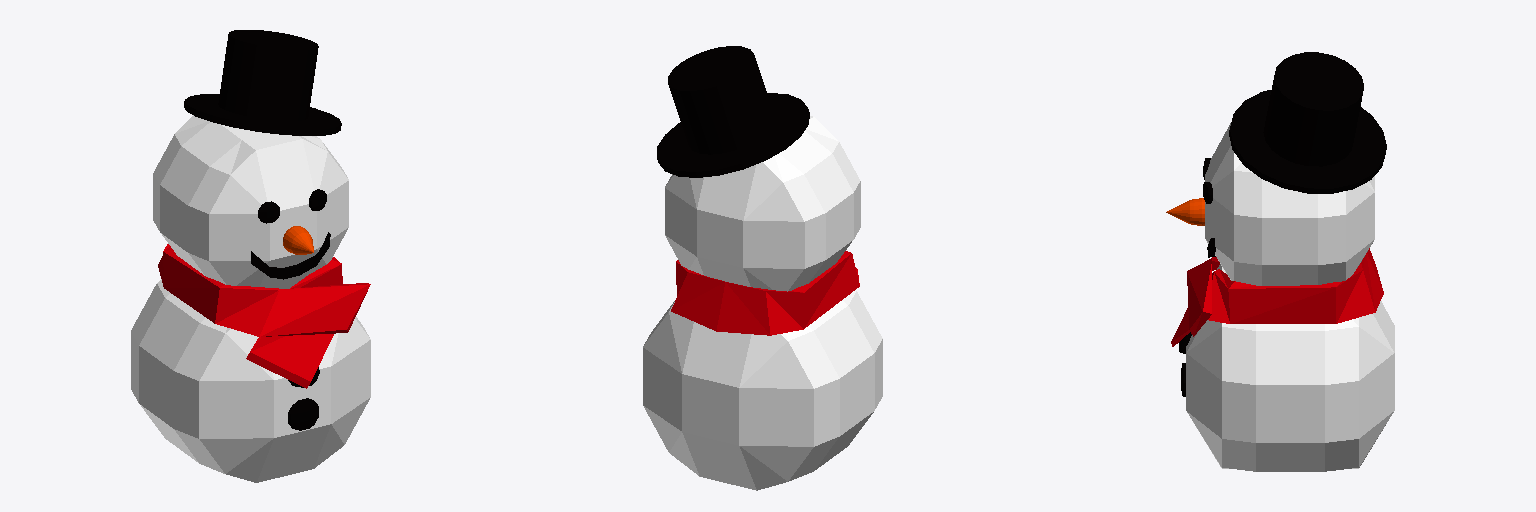
File: yukidaru_4.obj
The picture shows the model from 3 angles: view 1: azimuth 30°, elevation 25°; view 2: azimuth 150°, elevation 25°; view 3: azimuth 270°, elevation 25°; orthographic projection.
Parts seen in each view (by area): view 1: pCone3, pCube3, pCylinder2; view 2: pCone3, pCylinder2, pCube3; view 3: pCone3, pCylinder2, pCube3.
Part boxes in pixels (left/top/right/bottom): pCone3: left=131, top=115, right=370, bottom=482; pCube3: left=158, top=244, right=370, bottom=388; pCylinder2: left=184, top=30, right=341, bottom=135; pCone3: left=643, top=116, right=882, bottom=490; pCylinder2: left=657, top=46, right=809, bottom=177; pCube3: left=671, top=251, right=859, bottom=335; pCone3: left=1166, top=123, right=1394, bottom=471; pCylinder2: left=1229, top=52, right=1386, bottom=193; pCube3: left=1171, top=248, right=1383, bottom=346.
Bounding box in the file's own units: 3.08 × 6.38 × 3.24.